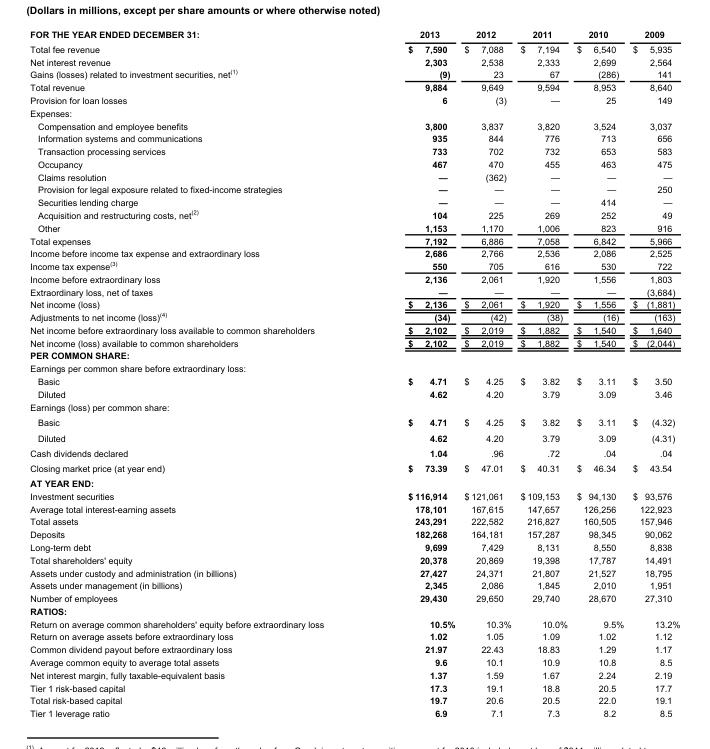table: (29, 29, 679, 717)
table column: (29, 29, 365, 717), (365, 29, 459, 717), (459, 29, 515, 717), (515, 29, 571, 717), (571, 29, 627, 717), (627, 29, 679, 717)
table column header: (29, 29, 679, 41)
table projected row header: (29, 400, 679, 414), (29, 475, 679, 489), (29, 106, 679, 119), (29, 348, 679, 361), (29, 361, 679, 374), (29, 604, 679, 617)
table row: (29, 429, 679, 445), (29, 414, 679, 429), (29, 445, 679, 460), (29, 460, 679, 475), (29, 41, 679, 55), (29, 207, 679, 221), (29, 258, 679, 272), (29, 309, 679, 323), (29, 400, 679, 414), (29, 475, 679, 489), (29, 67, 679, 80), (29, 80, 679, 93), (29, 93, 679, 106), (29, 106, 679, 119), (29, 131, 679, 144), (29, 144, 679, 157), (29, 157, 679, 170), (29, 182, 679, 195), (29, 221, 679, 234), (29, 272, 679, 285), (29, 323, 679, 336), (29, 348, 679, 361), (29, 361, 679, 374), (29, 374, 679, 387), (29, 387, 679, 400), (29, 489, 679, 502), (29, 514, 679, 527), (29, 527, 679, 540), (29, 540, 679, 553), (29, 553, 679, 566), (29, 578, 679, 591), (29, 591, 679, 604), (29, 604, 679, 617), (29, 629, 679, 642), (29, 642, 679, 655), (29, 655, 679, 668), (29, 668, 679, 681), (29, 693, 679, 706), (29, 29, 679, 41), (29, 55, 679, 67), (29, 119, 679, 131), (29, 170, 679, 182), (29, 195, 679, 207), (29, 234, 679, 246), (29, 246, 679, 258), (29, 285, 679, 297), (29, 297, 679, 309), (29, 336, 679, 348), (29, 502, 679, 514), (29, 566, 679, 578), (29, 617, 679, 629), (29, 681, 679, 693), (29, 706, 679, 717)
